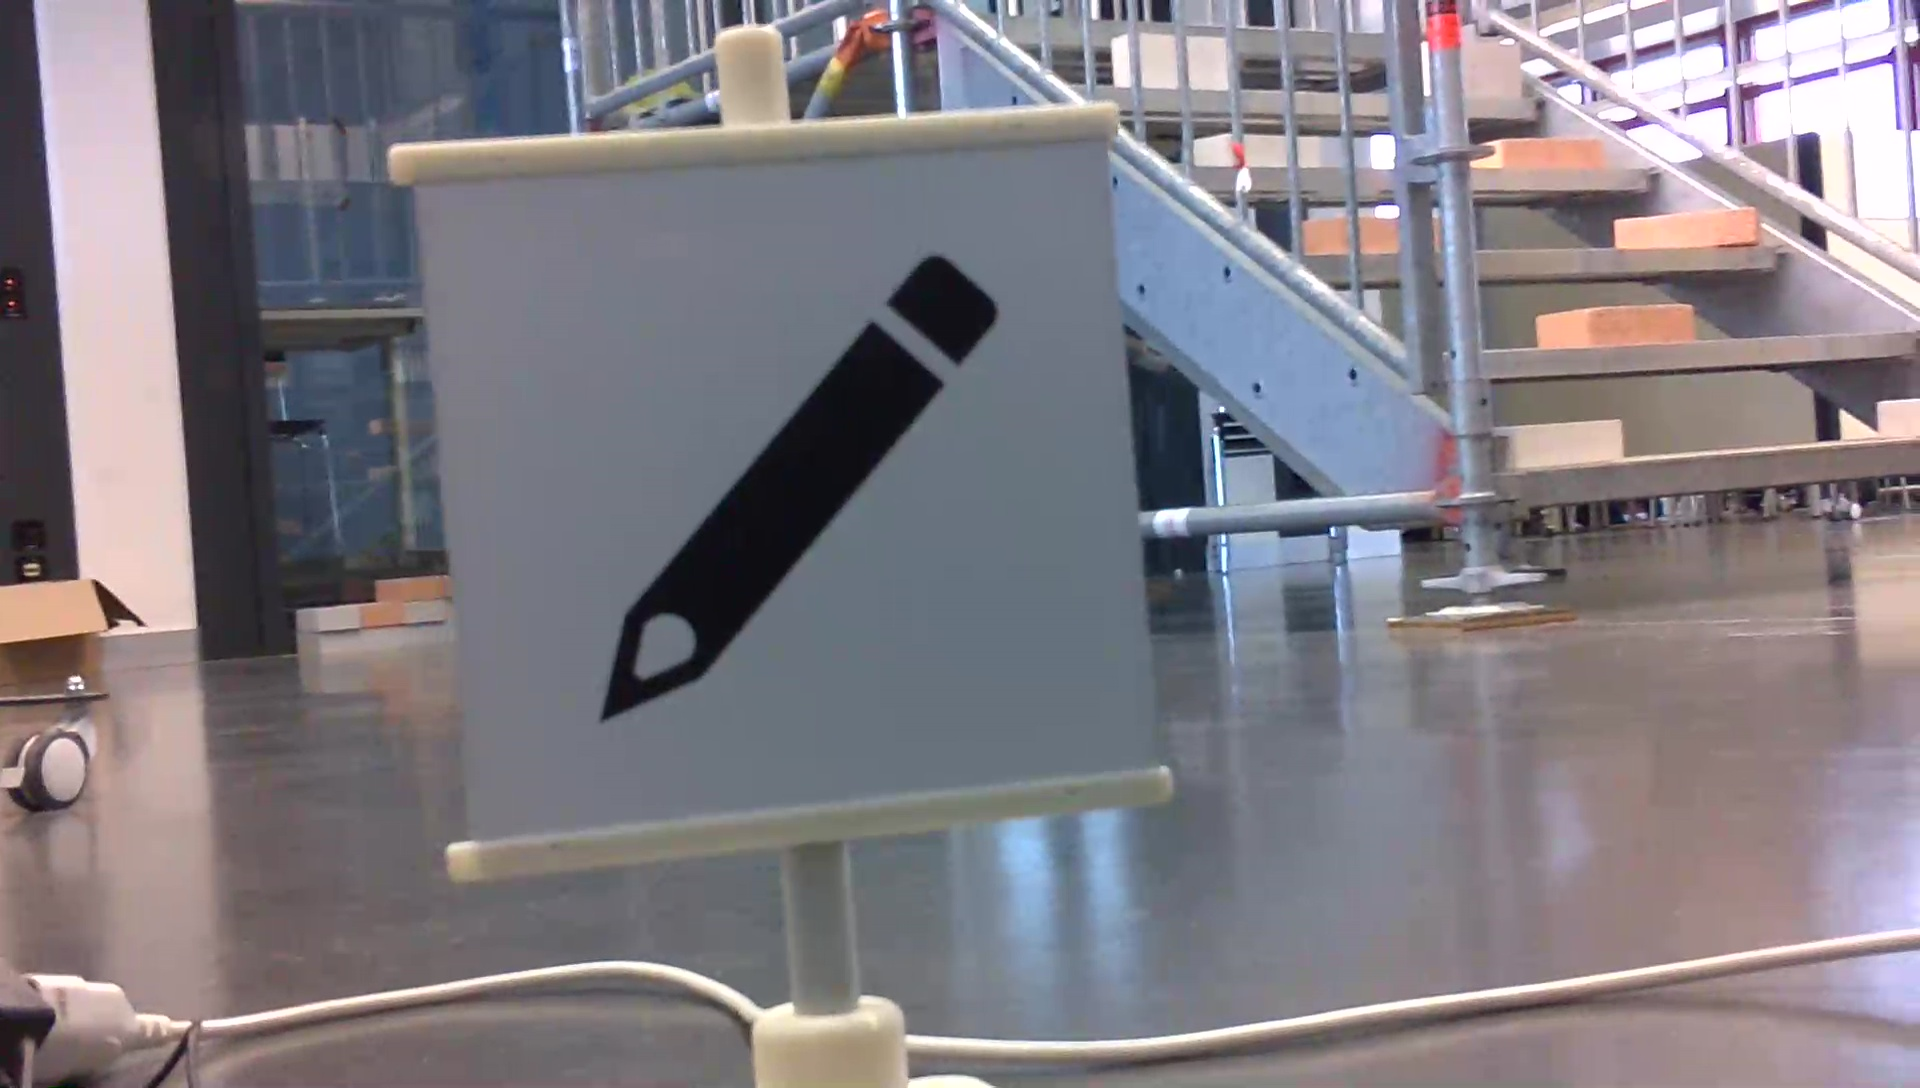brick: (1538, 307, 1693, 346), (1611, 207, 1758, 247), (1491, 135, 1600, 178), (1511, 421, 1615, 466), (1458, 36, 1518, 103), (1875, 396, 1920, 434)
edge: (1502, 437, 1920, 508), (1482, 326, 1912, 376)
pencil: (578, 240, 1015, 736)
